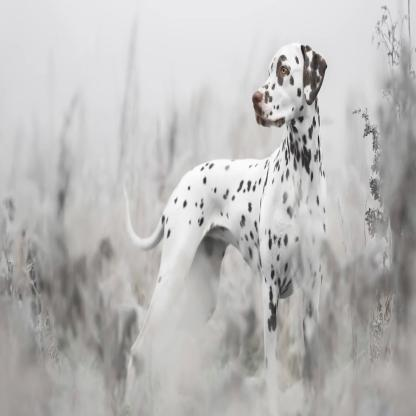dog: (124, 41, 328, 416)
